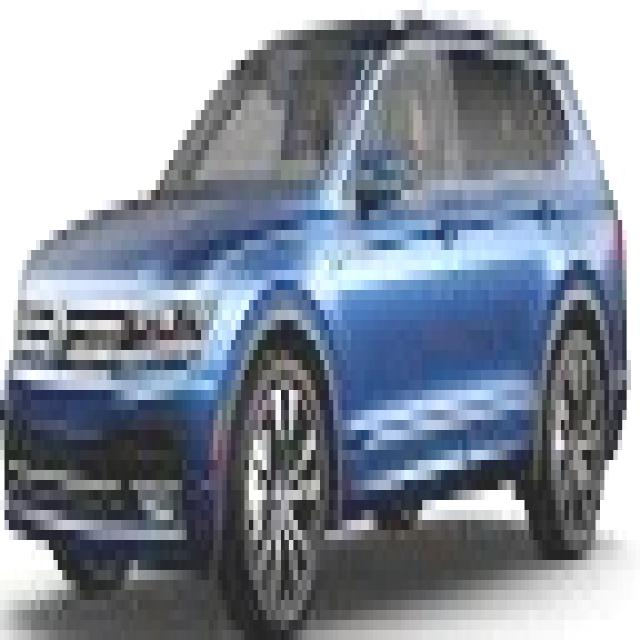blue: (9, 0, 613, 640)
